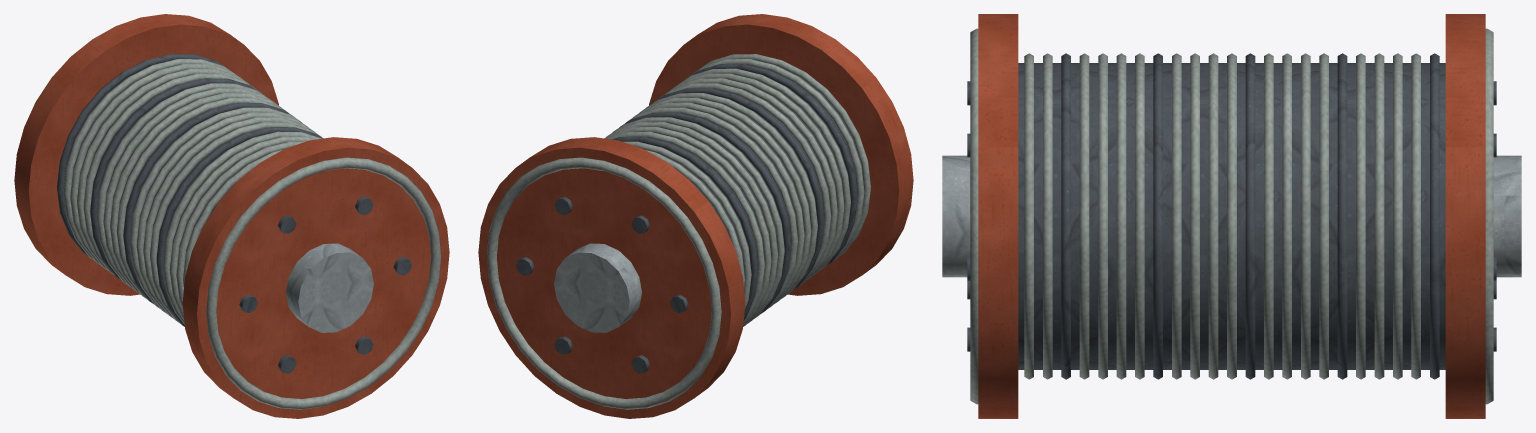
File: drum.fbx
The picture shows the model from 3 angles, left to right: view 1: azimuth 30°, elevation 25°; view 2: azimuth 150°, elevation 25°; view 3: azimuth 270°, elevation 25°; orthographic projection. The views are drawn at different scales.
Visible parts, largest first — view 1: SM_anchor_drum; view 2: SM_anchor_drum; view 3: SM_anchor_drum.
Boxes of the visible parts, left/top/right/bottom form: SM_anchor_drum: left=14, top=14, right=449, bottom=418; SM_anchor_drum: left=478, top=14, right=913, bottom=418; SM_anchor_drum: left=942, top=14, right=1521, bottom=418.
Bounding box in the file's own units: 1.38 × 1.38 × 1.97.
Materials: 4 (4 with a texture image).
